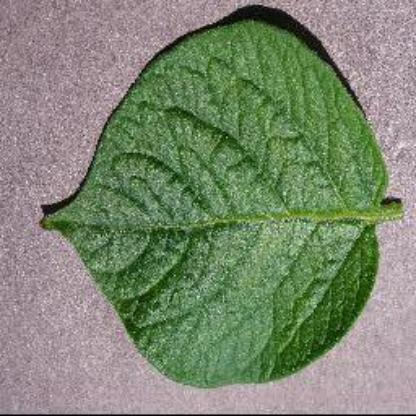Healthy-plant: (41, 12, 406, 388)
